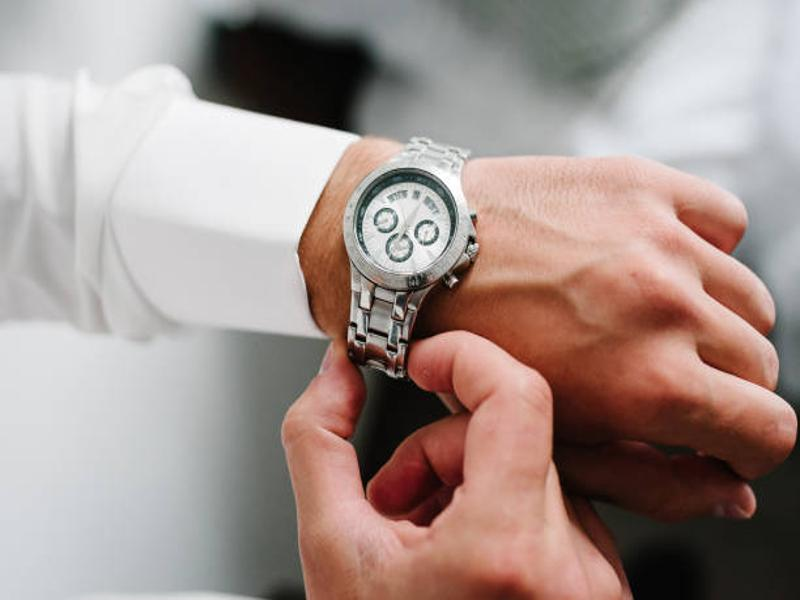watch: (341, 136, 482, 381)
